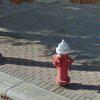Hydrant: (42, 32, 82, 95)
